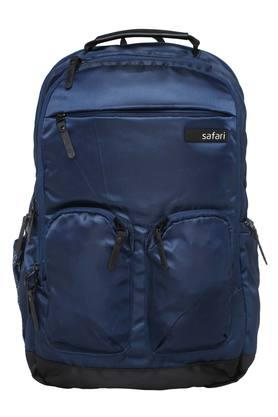backpack: (11, 28, 266, 390)
